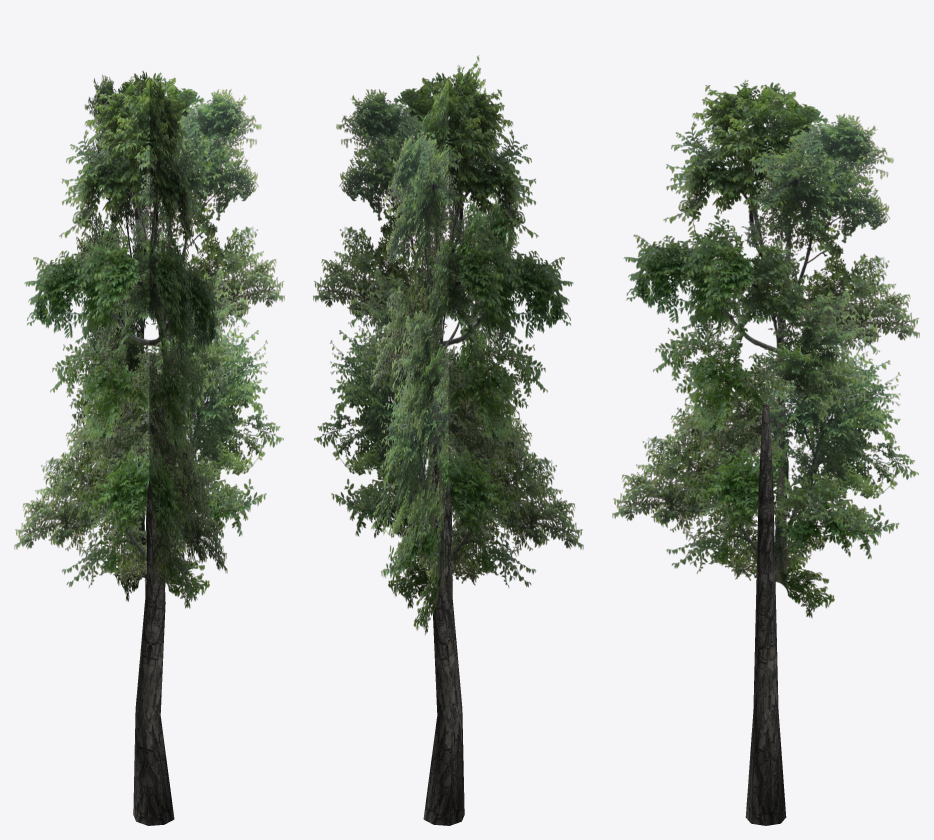
The model's file is tree4.glb.
3 renders of one model, left to right at view 1: azimuth 30°, elevation 25°; view 2: azimuth 150°, elevation 25°; view 3: azimuth 270°, elevation 25°, orthographic.
Parts seen in each view (by area): view 1: tree4; view 2: tree4; view 3: tree4.
Part boxes in pixels (<box>): tree4: <box>14,71,284,825</box>; tree4: <box>313,55,583,825</box>; tree4: <box>612,80,919,825</box>.
Size of the model in its own units: 0.5429 by 1.43 by 0.5429.
Materials: 2 (2 with a texture image).
